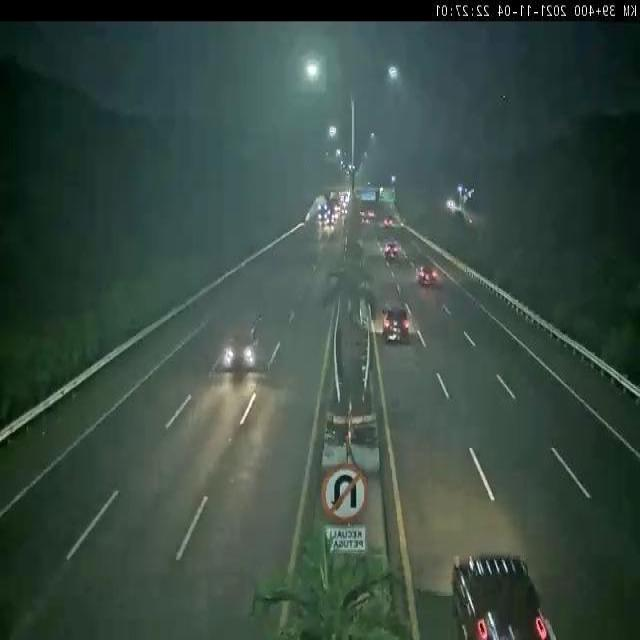Car: (445, 534, 564, 640), (206, 305, 273, 379), (376, 297, 418, 349), (414, 262, 440, 292), (378, 239, 403, 269), (381, 210, 400, 234)
